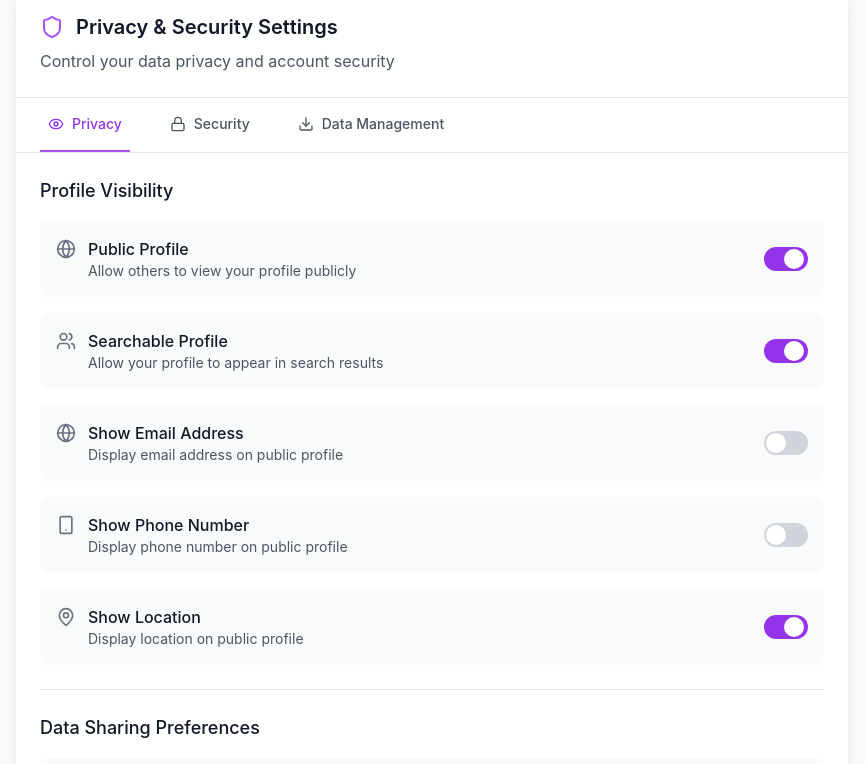
Test: PrivacySettings › Data Management tab › shows data export section when Data Management tab is clicked
This screenshot has width=865, height=764.
What coordinates should you click on to do the following:
click the button "Data Management"
I would click on:
 (371, 125)
Its box is x1=290 y1=98 x2=452 y2=152.
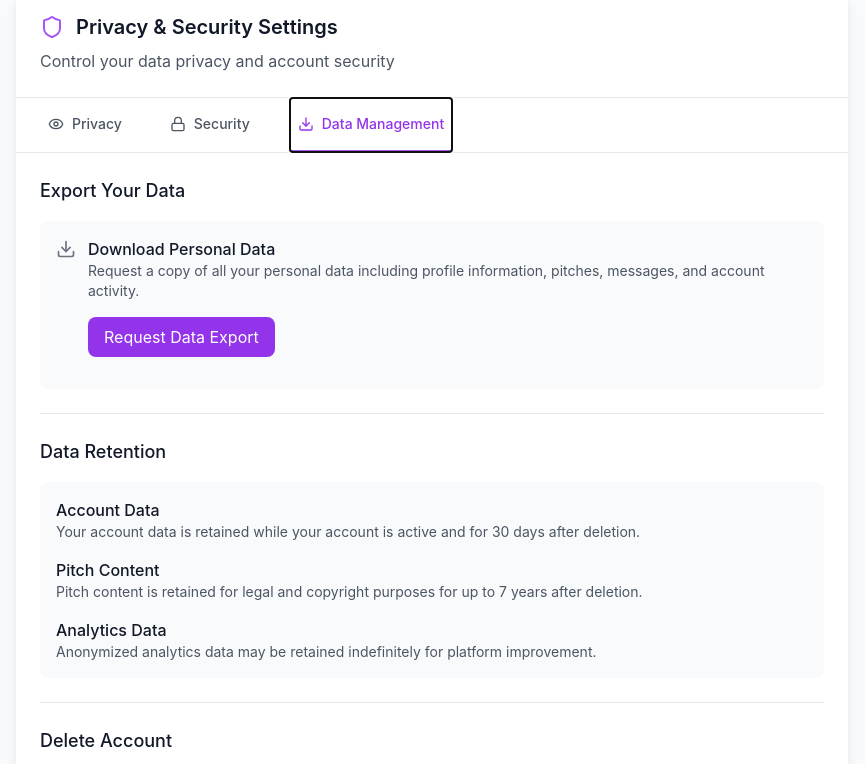
Expected: the heading "Export Your Data" is shown, x1=40 y1=180 x2=185 y2=201
Expected: the button "Request Data Export" is shown, x1=88 y1=317 x2=275 y2=357
